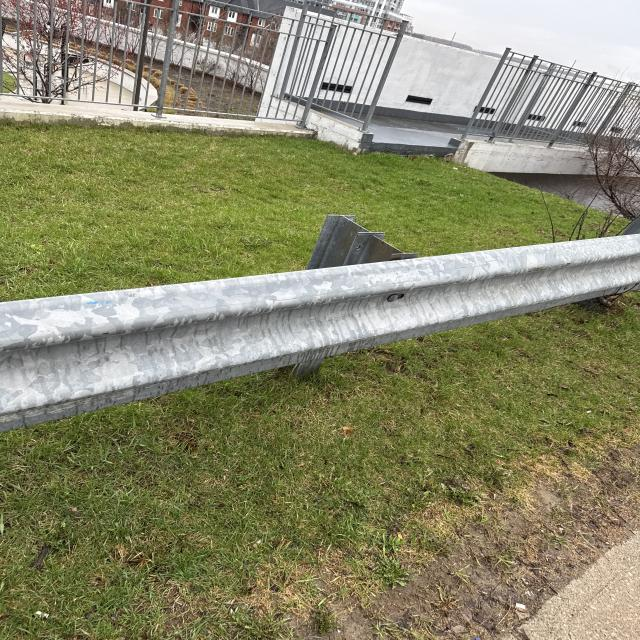Guard rail: (14, 235, 631, 423)
